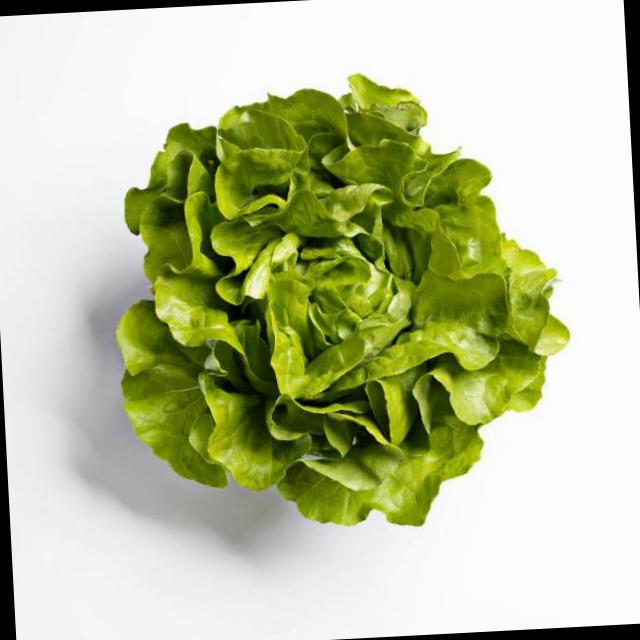Lettuce-Ready-to-Harvest: (118, 75, 569, 525)
